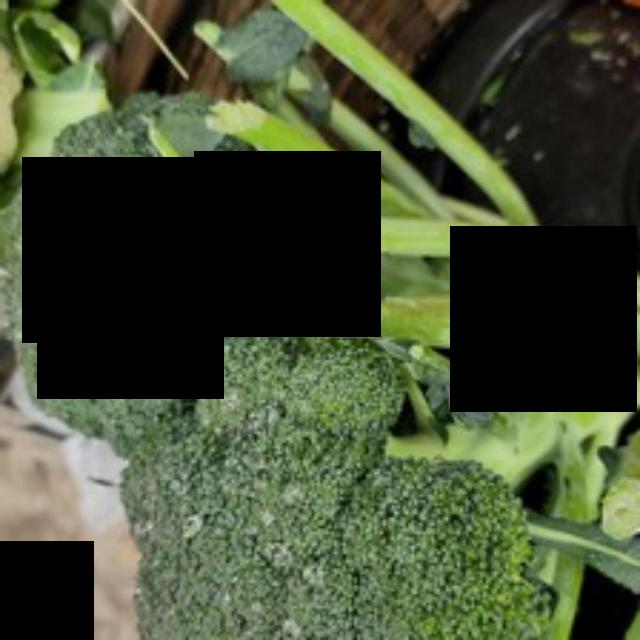broccoli: (125, 311, 566, 637)
